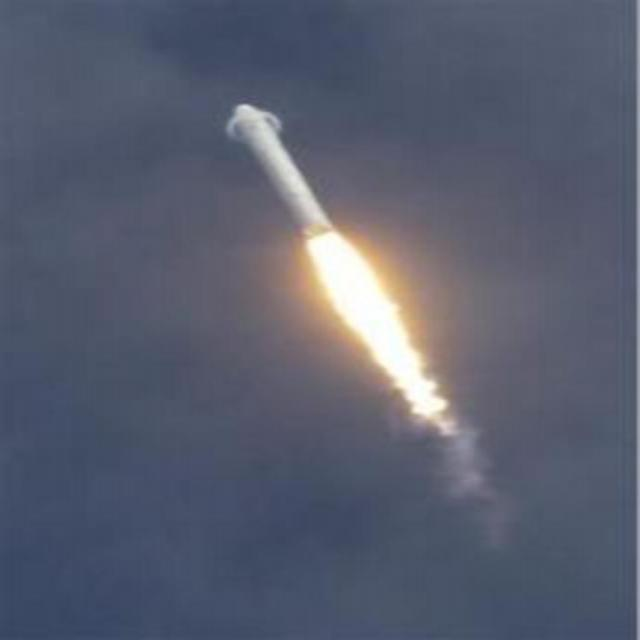missile: (225, 99, 331, 241)
